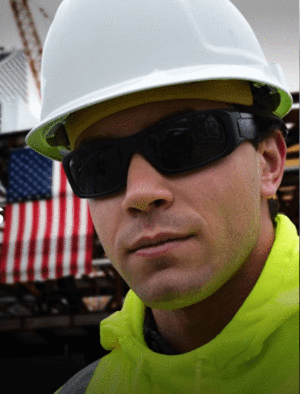epi: (24, 1, 298, 391)
